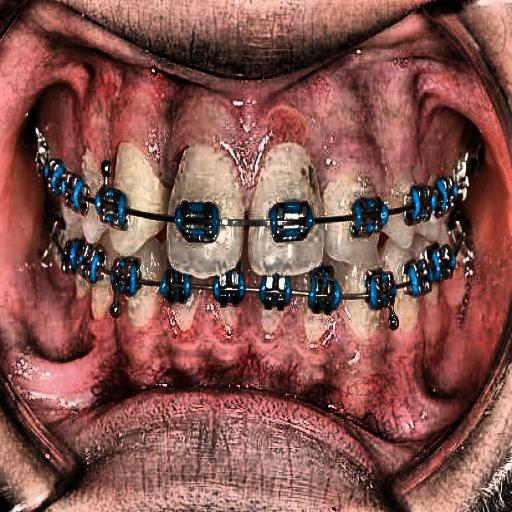Gingivitis: (42, 66, 439, 185)
